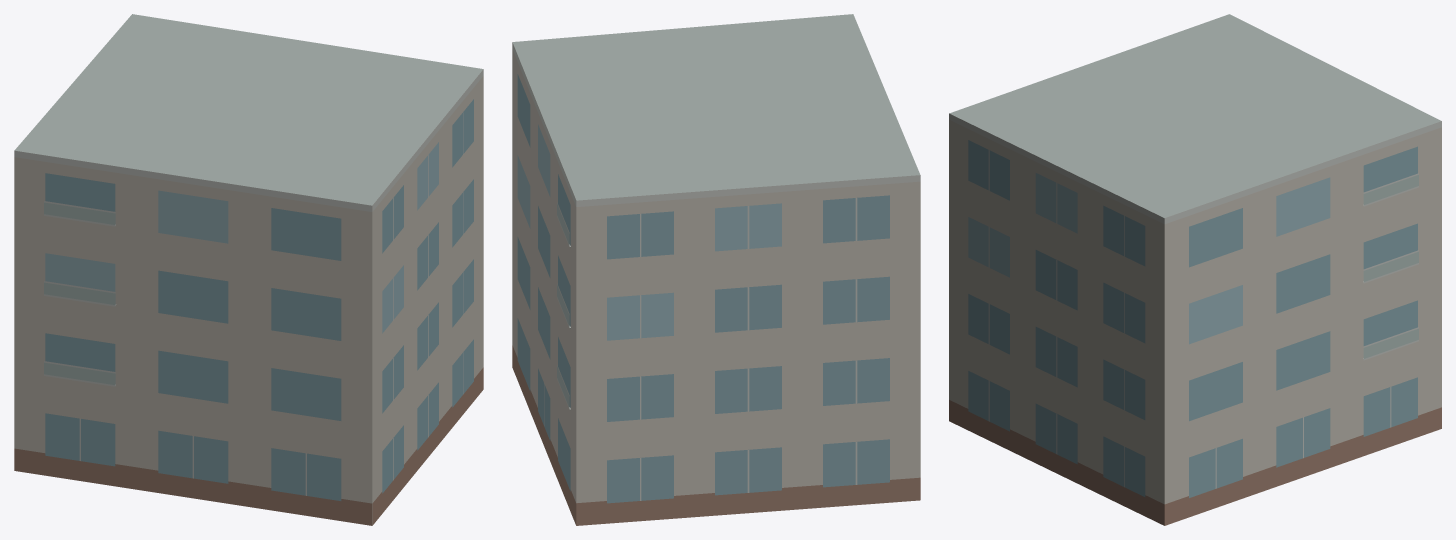
The model's file is survey-upis-32845680.glb.
3 renders of one model, left to right at view 1: azimuth 30°, elevation 25°; view 2: azimuth 150°, elevation 25°; view 3: azimuth 270°, elevation 25°, orthographic. The views are drawn at different scales.
Visible parts, largest first — view 1: survey-upis-32845680.tmp; view 2: survey-upis-32845680.tmp; view 3: survey-upis-32845680.tmp.
Boxes of the visible parts, left/top/right/bottom form: survey-upis-32845680.tmp: left=14, top=14, right=483, bottom=525; survey-upis-32845680.tmp: left=512, top=14, right=920, bottom=525; survey-upis-32845680.tmp: left=949, top=14, right=1441, bottom=525.
Size of the model in its own units: 17.37 by 12.2 by 17.71.
